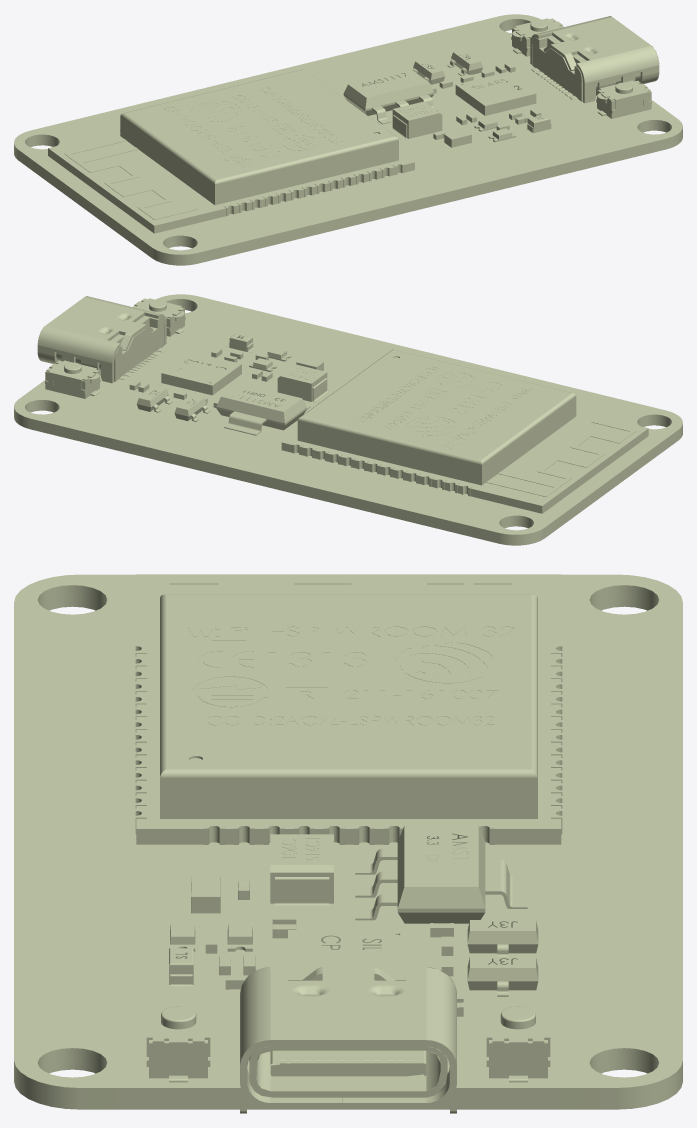
Rendered from ESP32.fbx.
3 renders of one model, top to bottom at view 1: azimuth 30°, elevation 25°; view 2: azimuth 150°, elevation 25°; view 3: azimuth 270°, elevation 25°, orthographic. The views are drawn at different scales.
Parts seen in each view (by area): view 1: ESP32; view 2: ESP32; view 3: ESP32.
Part boxes in pixels (x1,y1,x2,y2): ESP32: (14,14,682,265); ESP32: (14,294,682,545); ESP32: (14,574,682,1113).
Bounding box in the file's own units: 5.35 × 0.46 × 2.83.
